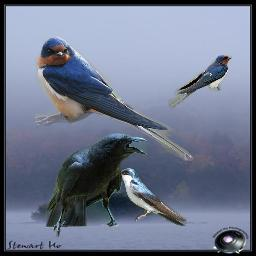Crow: (43, 133, 148, 237)
Swallow: (35, 36, 193, 161), (117, 168, 187, 226), (168, 55, 232, 109)
